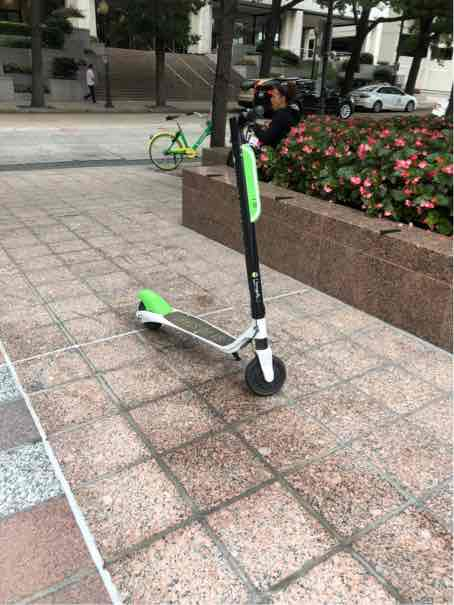scooter: (119, 96, 298, 406)
